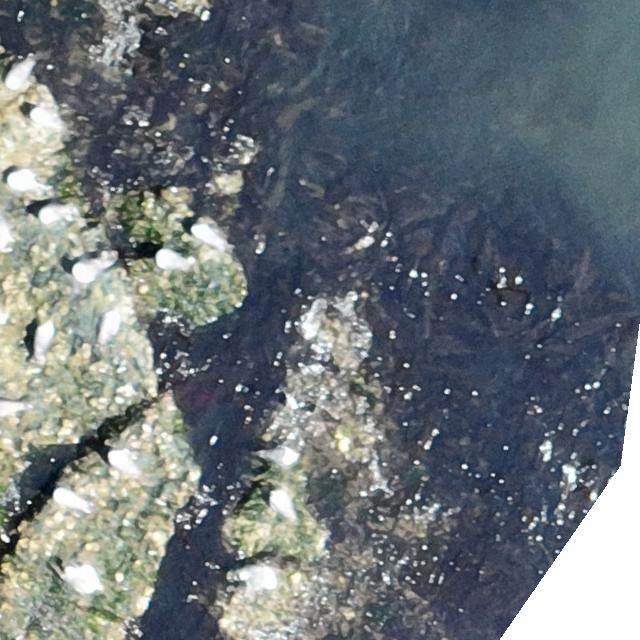umineko: (59, 556, 102, 595), (228, 562, 279, 592), (189, 225, 232, 252), (30, 106, 68, 136), (108, 449, 146, 479), (74, 253, 110, 283), (3, 58, 34, 92), (52, 486, 91, 513), (6, 170, 45, 196), (30, 320, 55, 360), (271, 489, 297, 525), (257, 443, 299, 465), (156, 250, 196, 272), (39, 204, 66, 223)
